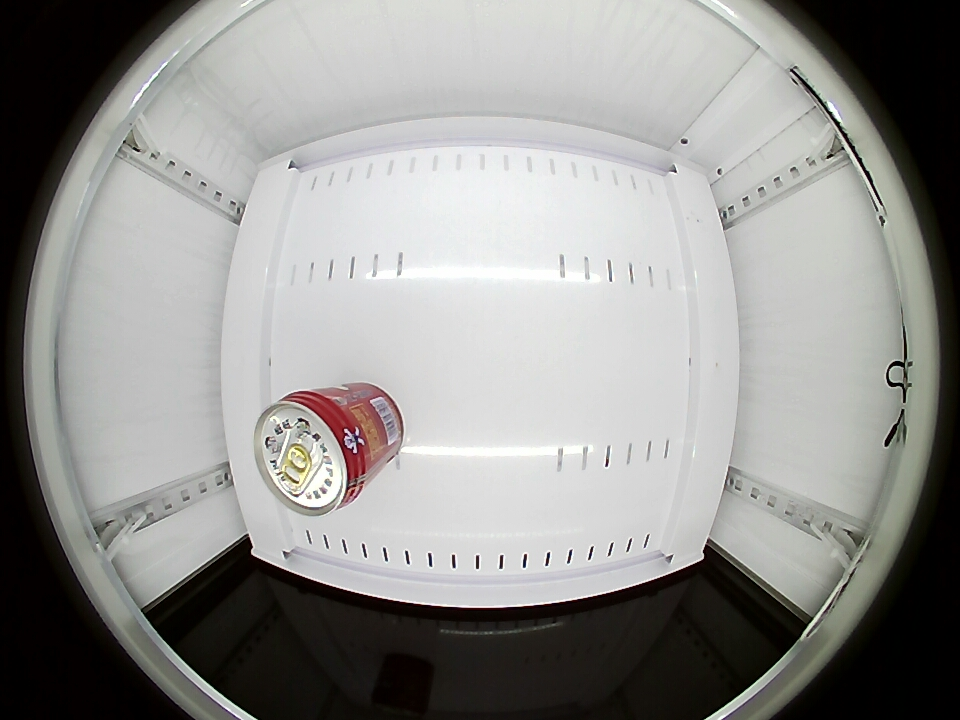wangzainiunai: (254, 388, 379, 517)
